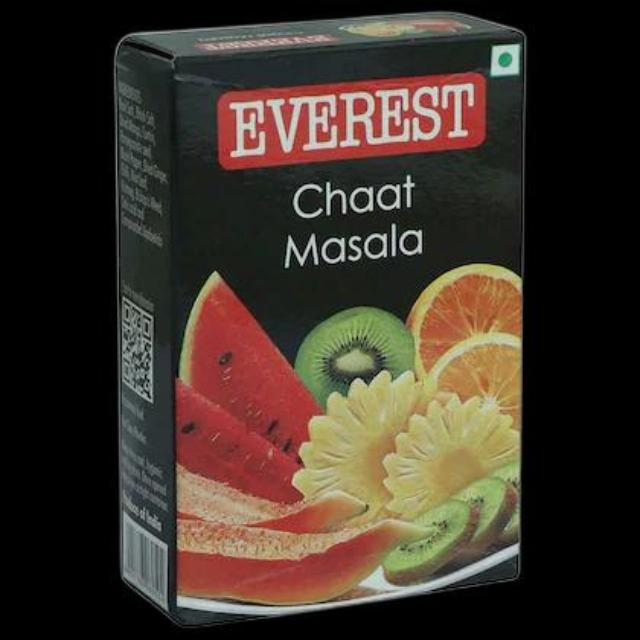Everest Chaat Masala 50 g: (103, 18, 531, 620)
